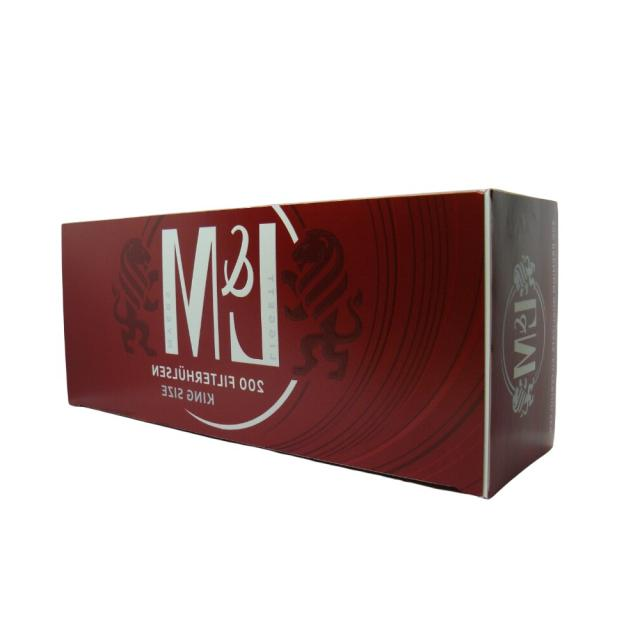lm: (60, 191, 558, 504)
